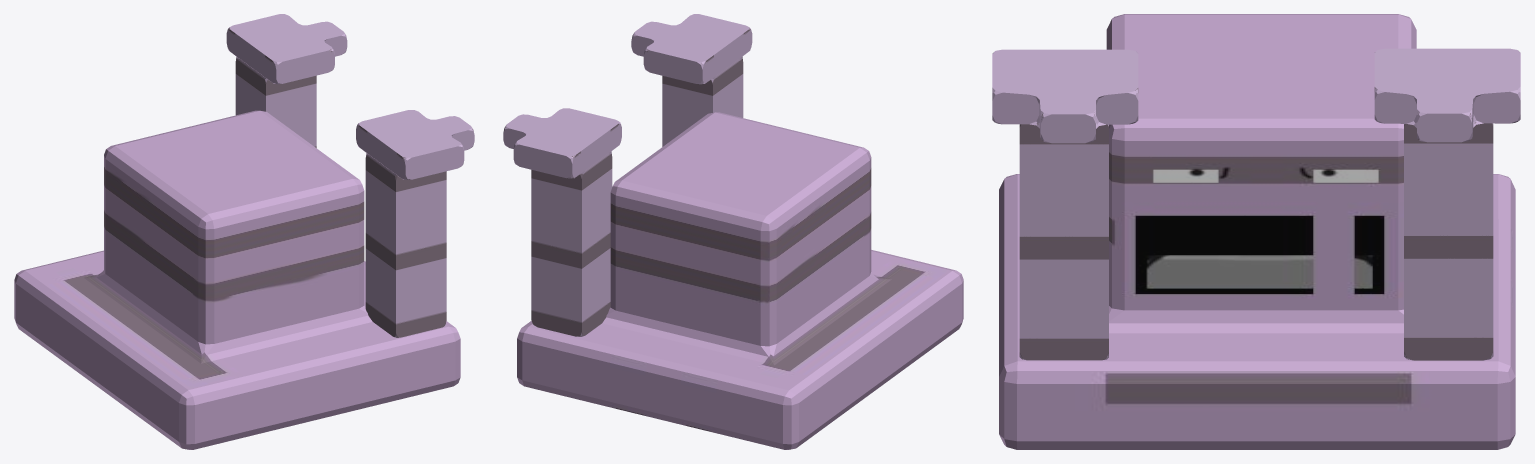
The model's file is chouchouni.fbx.
The picture shows the model from 3 angles, left to right: view 1: azimuth 30°, elevation 25°; view 2: azimuth 150°, elevation 25°; view 3: azimuth 270°, elevation 25°; orthographic projection. The views are drawn at different scales.
Visible parts, largest first — view 1: body, 立方体.001, 立方体; view 2: body, 立方体, 立方体.001; view 3: body, 立方体, 立方体.001.
Part boxes in pixels (<box>): body: <box>14,110,460,449</box>; 立方体.001: <box>356,110,474,337</box>; 立方体: <box>226,14,347,147</box>; body: <box>517,112,963,449</box>; 立方体: <box>503,108,621,336</box>; 立方体.001: <box>631,14,752,146</box>; body: <box>999,14,1515,449</box>; 立方体: <box>1374,48,1520,360</box>; 立方体.001: <box>992,49,1138,360</box>.
Size of the model in its own units: 979 by 759 by 1000.
